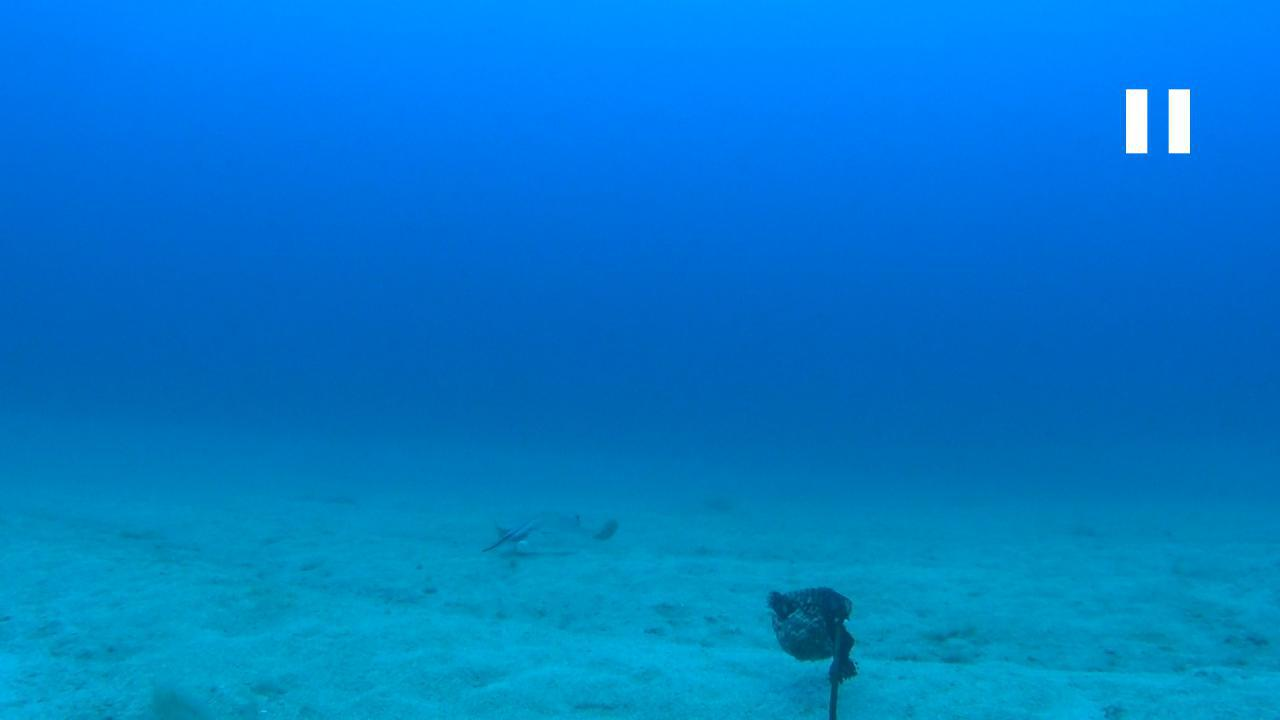dasyatis: (479, 509, 619, 554)
